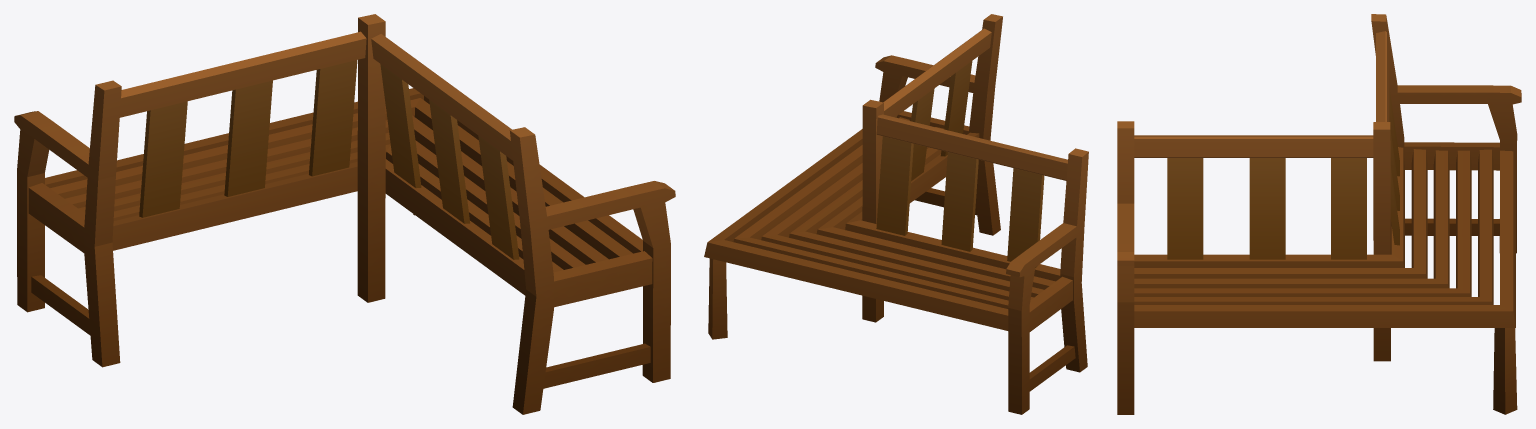
Rendered from Park_Bench_Corner_Out.fbx.
3 renders of one model, left to right at view 1: azimuth 30°, elevation 25°; view 2: azimuth 150°, elevation 25°; view 3: azimuth 270°, elevation 25°, orthographic. The views are drawn at different scales.
Visible parts, largest first — view 1: Park_Bench_Corner_Out; view 2: Park_Bench_Corner_Out; view 3: Park_Bench_Corner_Out.
Part boxes in pixels (left/top/right/bottom): Park_Bench_Corner_Out: left=14, top=14, right=675, bottom=414; Park_Bench_Corner_Out: left=704, top=14, right=1088, bottom=414; Park_Bench_Corner_Out: left=1117, top=14, right=1521, bottom=414.
Size of the model in its own units: 169 by 107 by 169.
